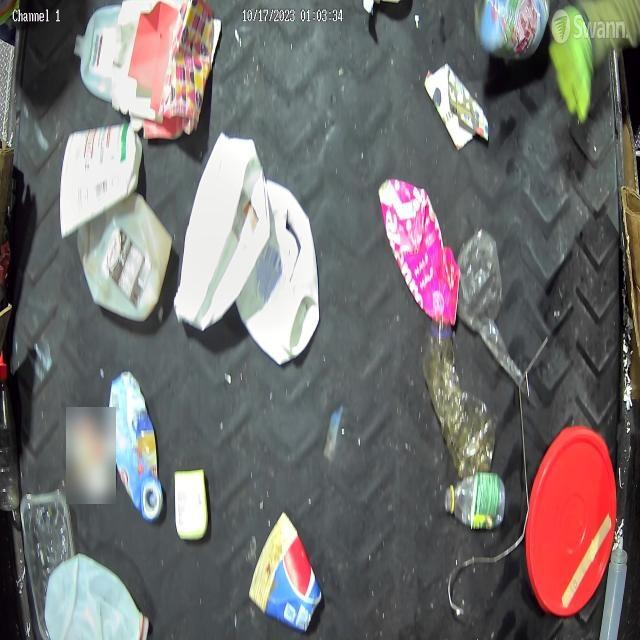milk_jug: (174, 133, 270, 330), (236, 178, 320, 363), (80, 193, 174, 322), (43, 552, 148, 640)
non_white_jug: (378, 176, 460, 326)
plastic_bottle: (442, 469, 506, 531), (0, 363, 20, 511)
